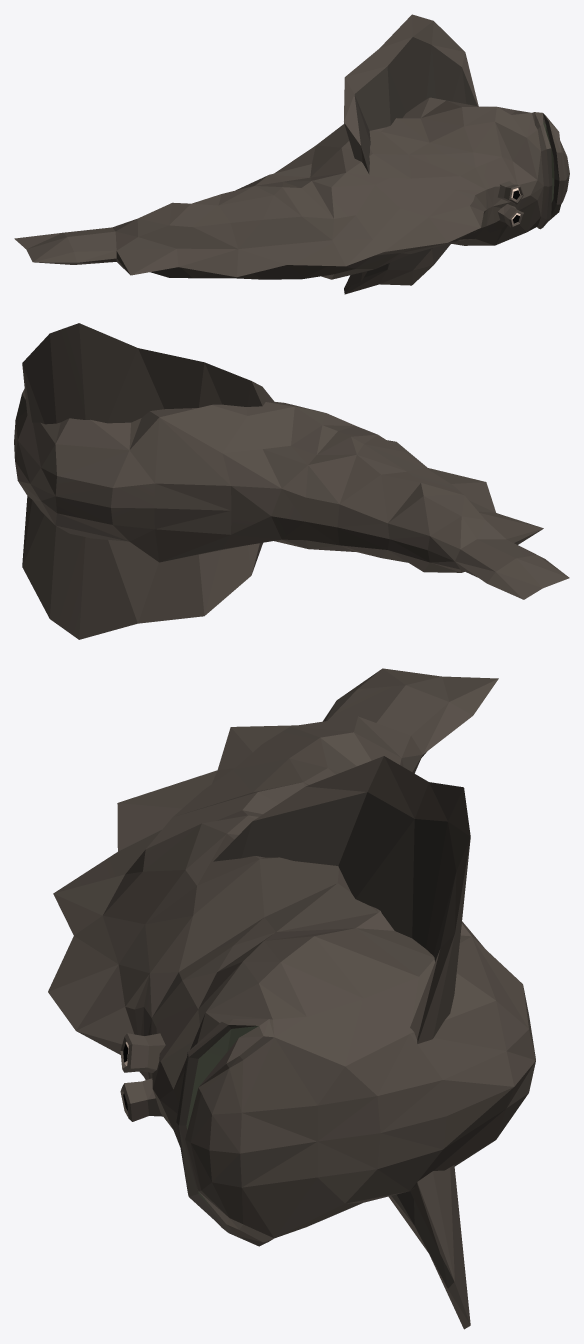
File: Stonefish.glb
3 views of the same model, one above another, from view 1: azimuth 30°, elevation 25°; view 2: azimuth 150°, elevation 25°; view 3: azimuth 270°, elevation 25° (orthographic). The views are drawn at different scales.
Parts seen in each view (by area): view 1: Stonefish; view 2: Stonefish; view 3: Stonefish.
Part boxes in pixels (box(x1,y1,x2,y2)): Stonefish: box(14, 14, 569, 294); Stonefish: box(14, 323, 569, 639); Stonefish: box(48, 668, 535, 1329).
Bounding box in the file's own units: 0.7948 × 0.4142 × 0.338.
1 material, 1 textured.
